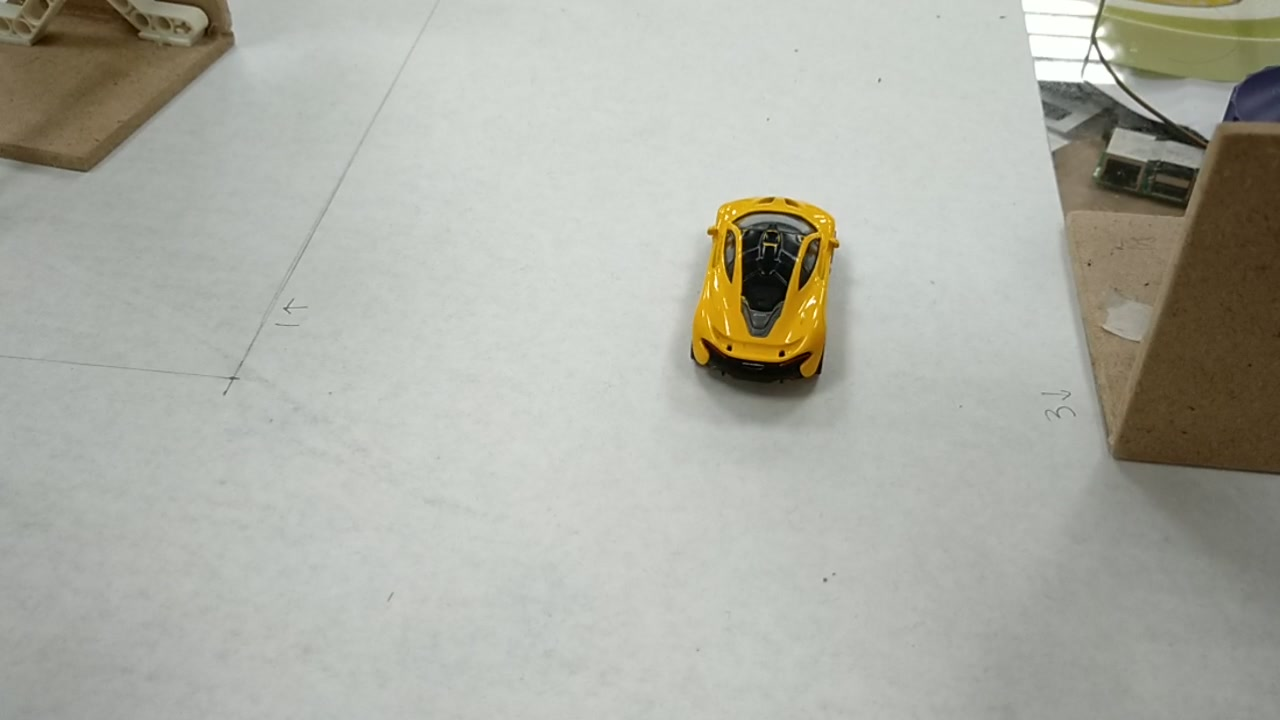car: (693, 195, 846, 368)
